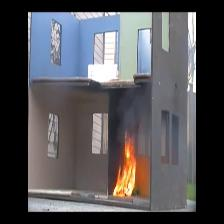fire: (111, 129, 149, 200)
smoke: (121, 92, 150, 118)
